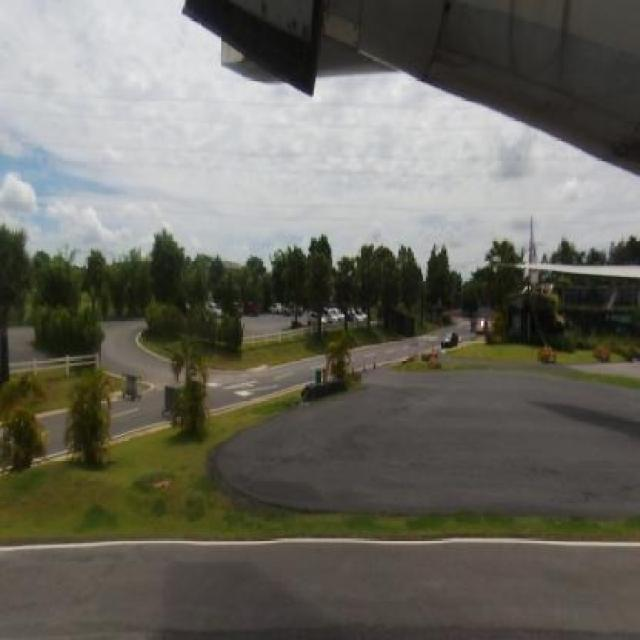Rust: (504, 2, 594, 90), (423, 5, 488, 90)
Scartch: (276, 5, 319, 42)
